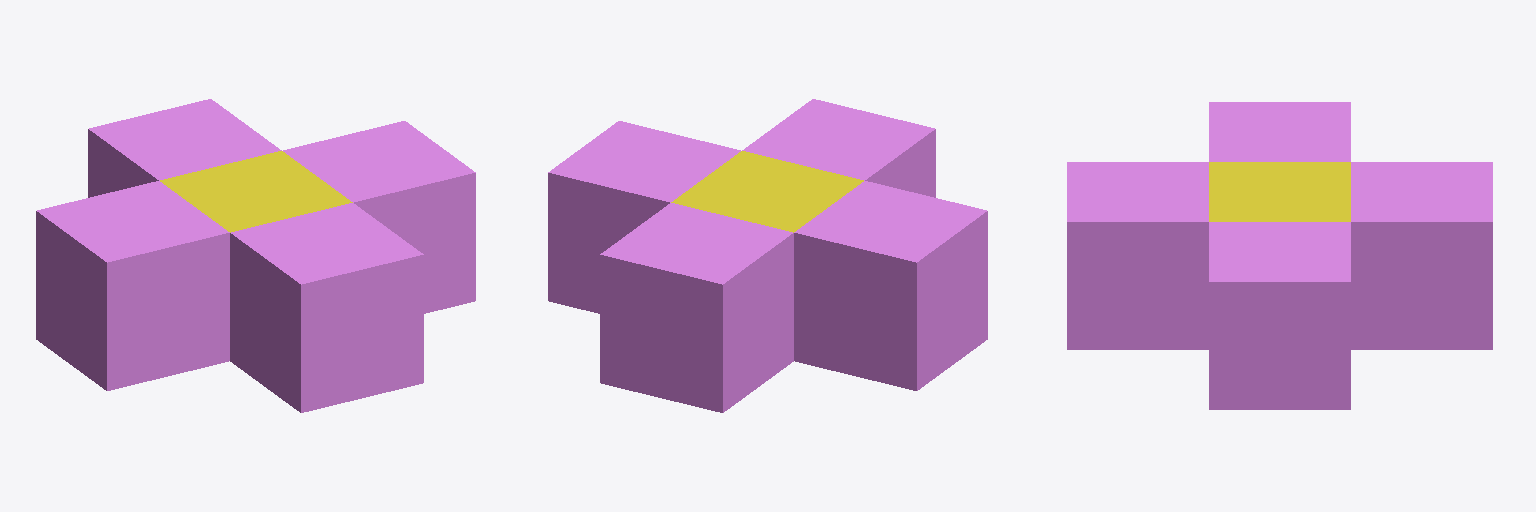
3 views of the same model, side by side, from view 1: azimuth 30°, elevation 25°; view 2: azimuth 150°, elevation 25°; view 3: azimuth 270°, elevation 25° (orthographic).
Parts seen in each view (by area): view 1: PlumpStandardMushroom_17; view 2: PlumpStandardMushroom_17; view 3: PlumpStandardMushroom_17.
Boxes of the visible parts, <box> form: PlumpStandardMushroom_17: <box>36,99,475,412</box>; PlumpStandardMushroom_17: <box>548,99,987,412</box>; PlumpStandardMushroom_17: <box>1067,102,1492,409</box>.
Size of the model in its own units: 3 by 1 by 3.
Materials: 1 (1 with a texture image).